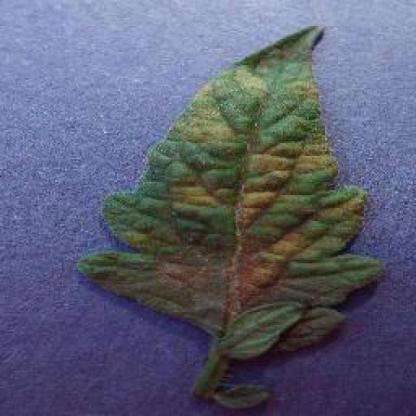Tomato_Leaf_Mold: (75, 25, 386, 359)
